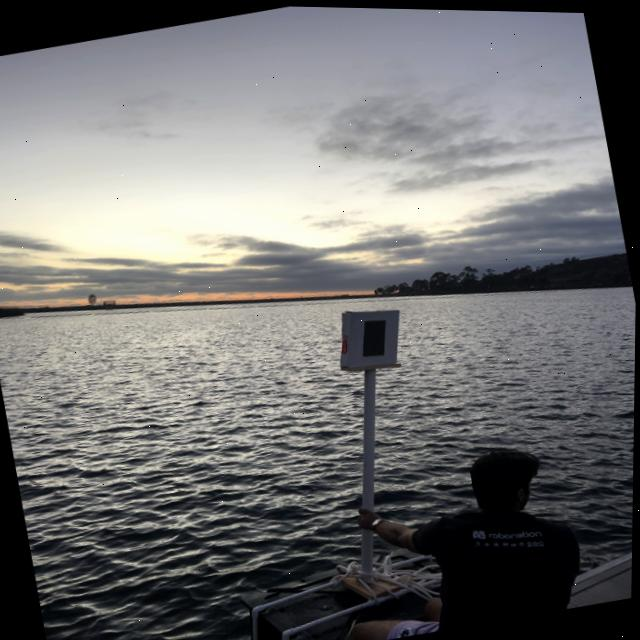led: (347, 310, 399, 373)
